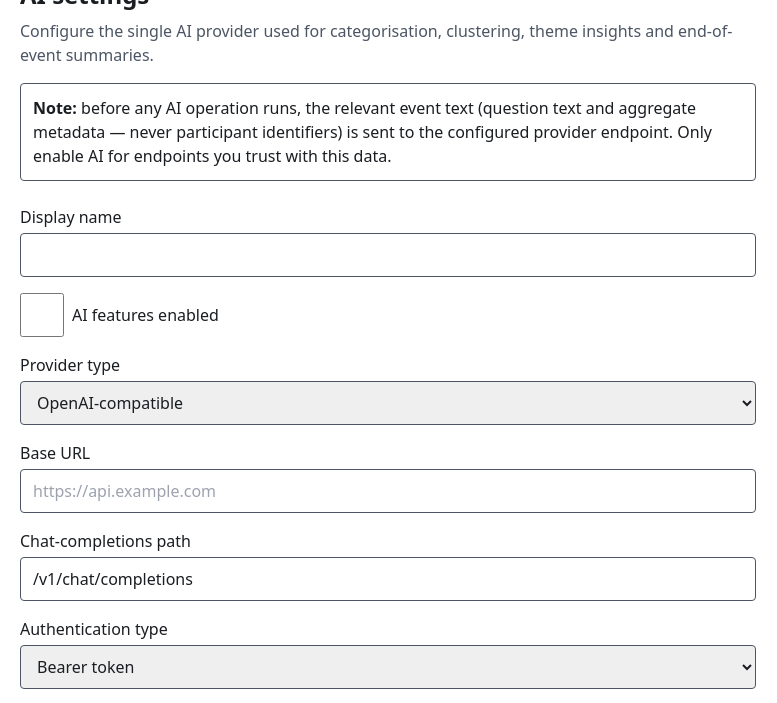
Test case: AiSettings — config form validation (Req 11.12, 24.7) › surfaces per-field errors for an empty display name and invalid base URL
Type "not-a-url" into the field labelled "Base URL" at (388, 491), box [20,469,756,513]
(page scrolled)
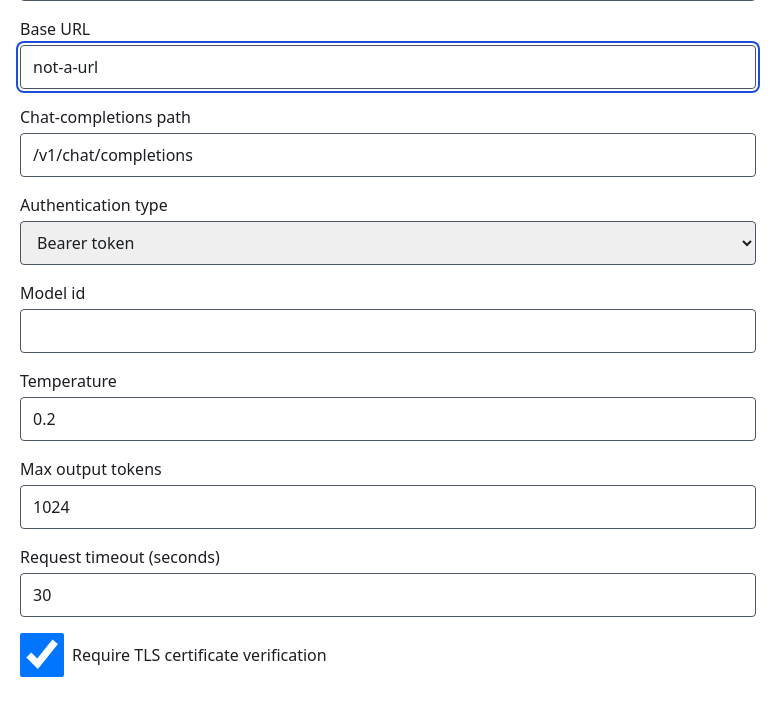
Type "gpt-4o-mini" into the field labelled "Model id" at (388, 331), box [20,309,756,353]
(page scrolled)
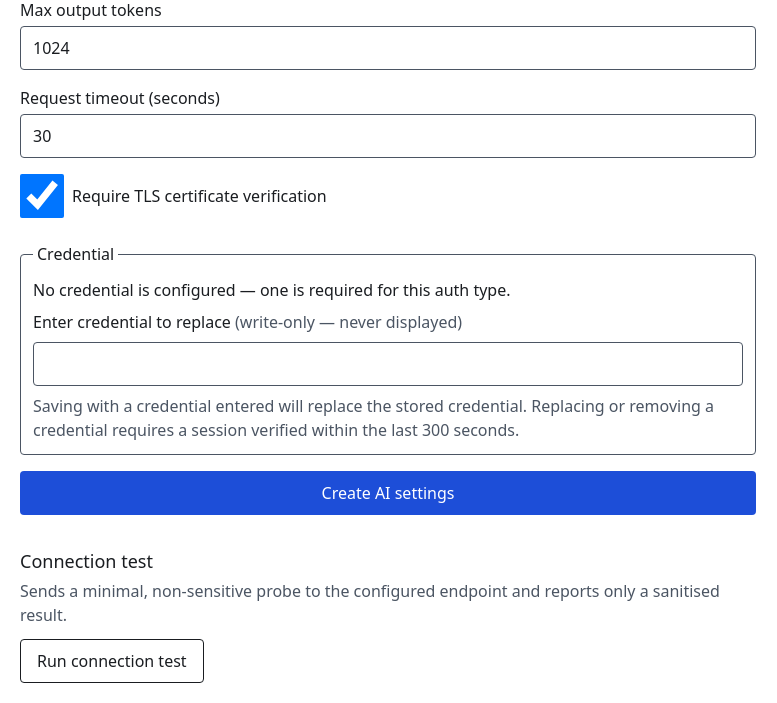
Click the button "Create AI settings" at (388, 493), box [20,471,756,515]
(page scrolled)
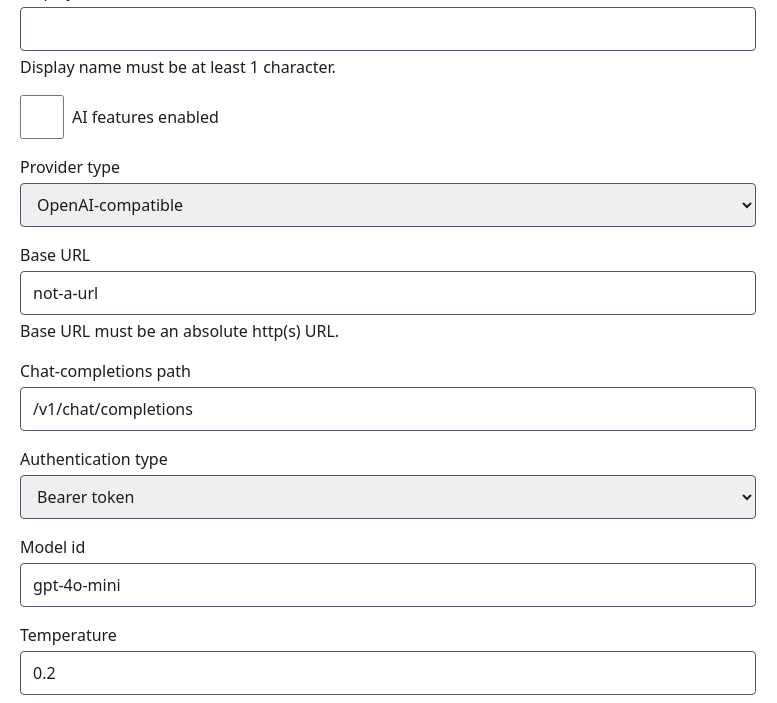
expect the text "Display name must be at least 1 character." is shown: met, box [20,56,336,78]
expect the text "Base URL must be an absolute http(s) URL." is shown: met, box [20,320,339,342]
